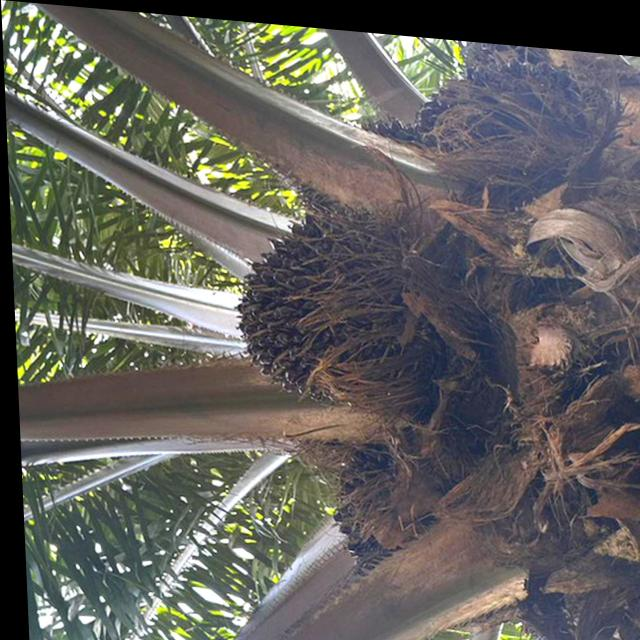almost: (217, 196, 446, 414), (346, 33, 585, 211), (319, 444, 457, 610)
